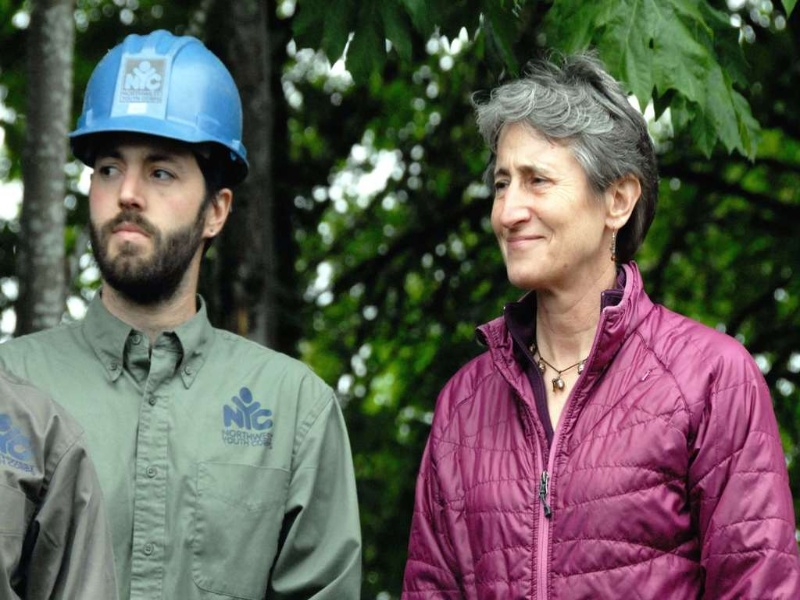Baret: (67, 28, 249, 177)
